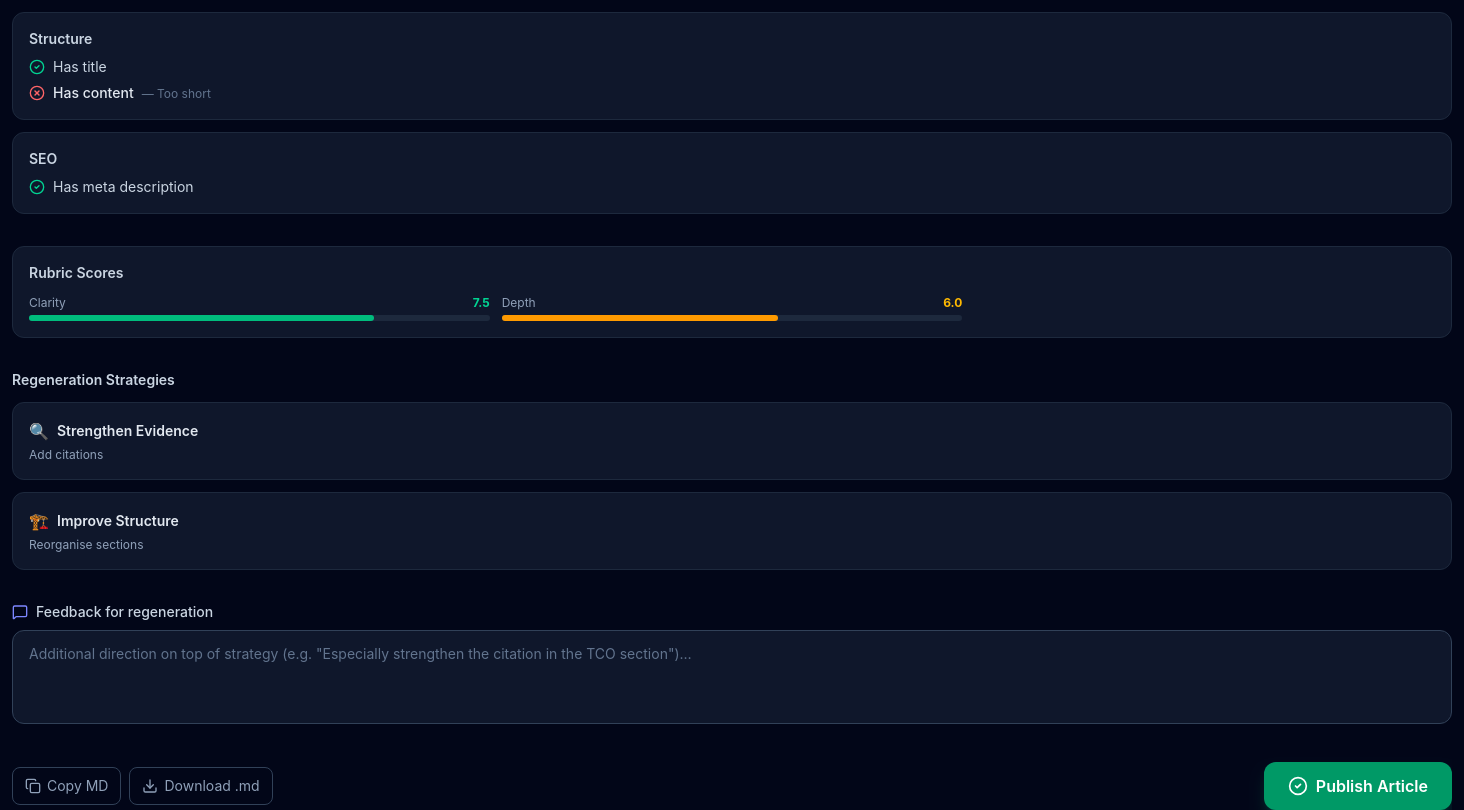
Scenario: FinalApproval › Regeneration › Regenerate button appears when feedback is typed
(page scrolled)
In the text box with placeholder "Additional direction": (732, 677) [12,630,1452,724], type "Focus on citations"
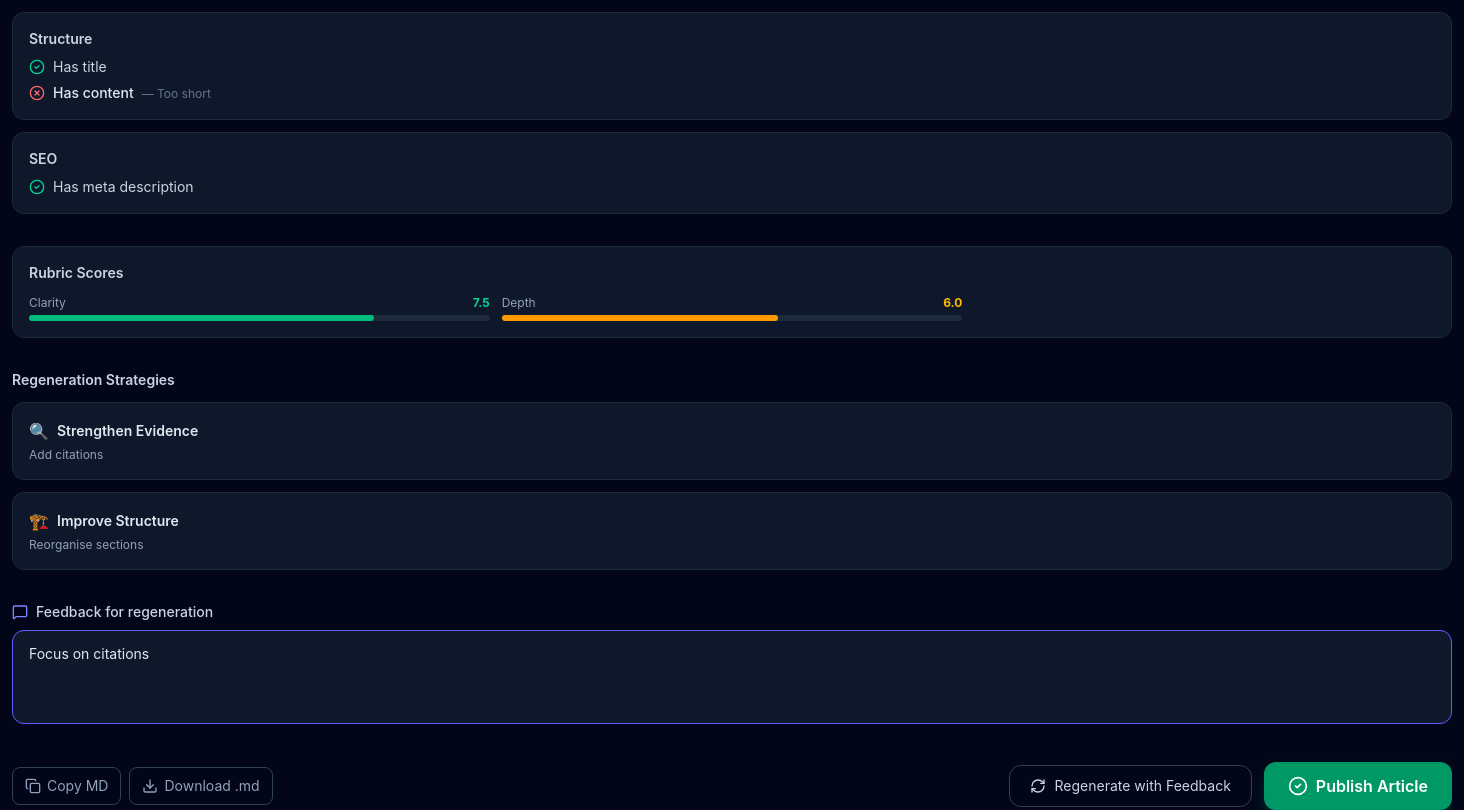
Expected: the button "Regenerate with Feedback" is shown, [1010,765,1252,807]
